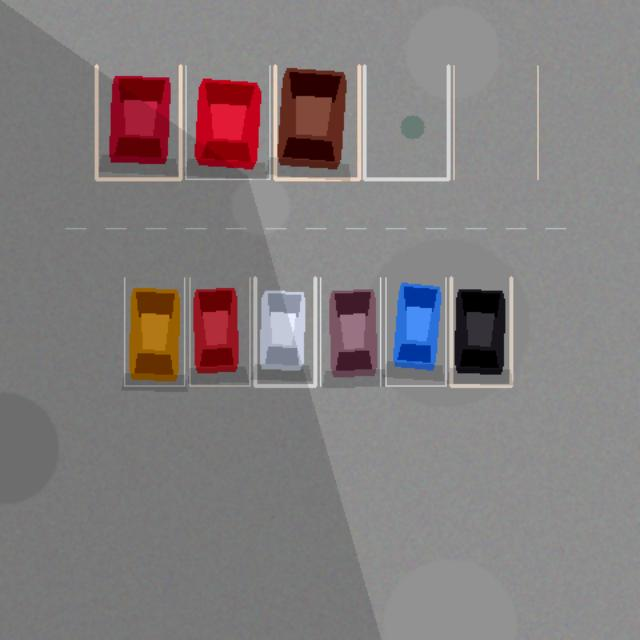space-empty: (364, 65, 448, 179), (453, 65, 537, 179)
space-occupied: (96, 65, 180, 179), (185, 65, 269, 179), (275, 65, 359, 179), (124, 277, 184, 385), (189, 277, 249, 385), (255, 277, 315, 385), (320, 277, 380, 385), (385, 277, 445, 385), (451, 277, 511, 385)
